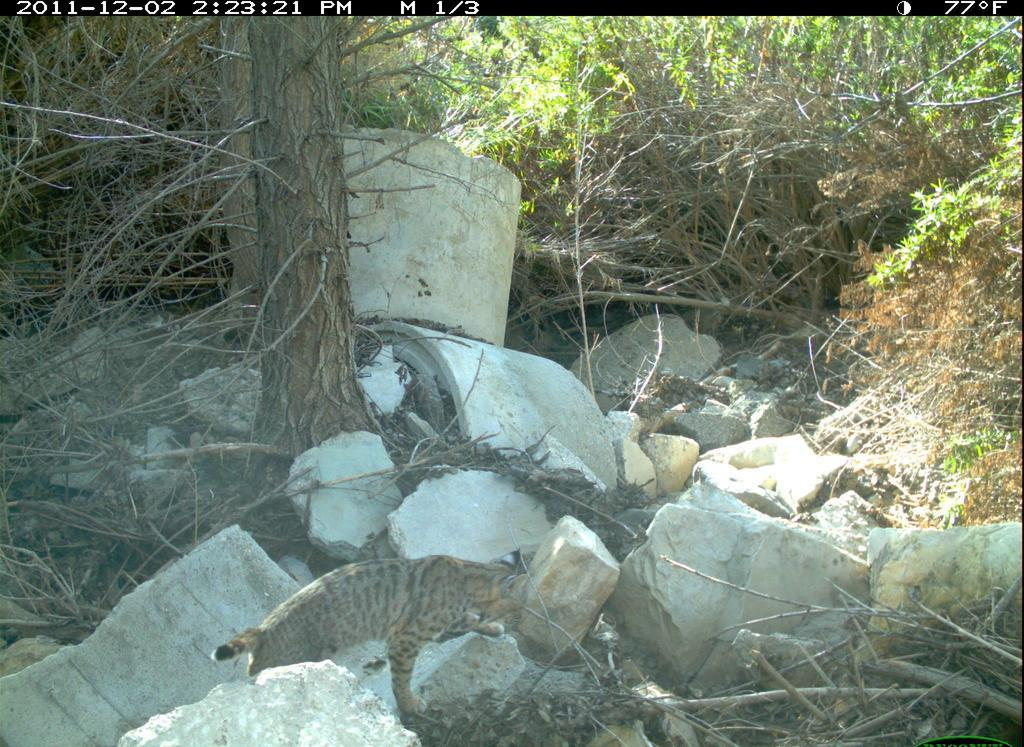bobcat: (212, 549, 530, 719)
